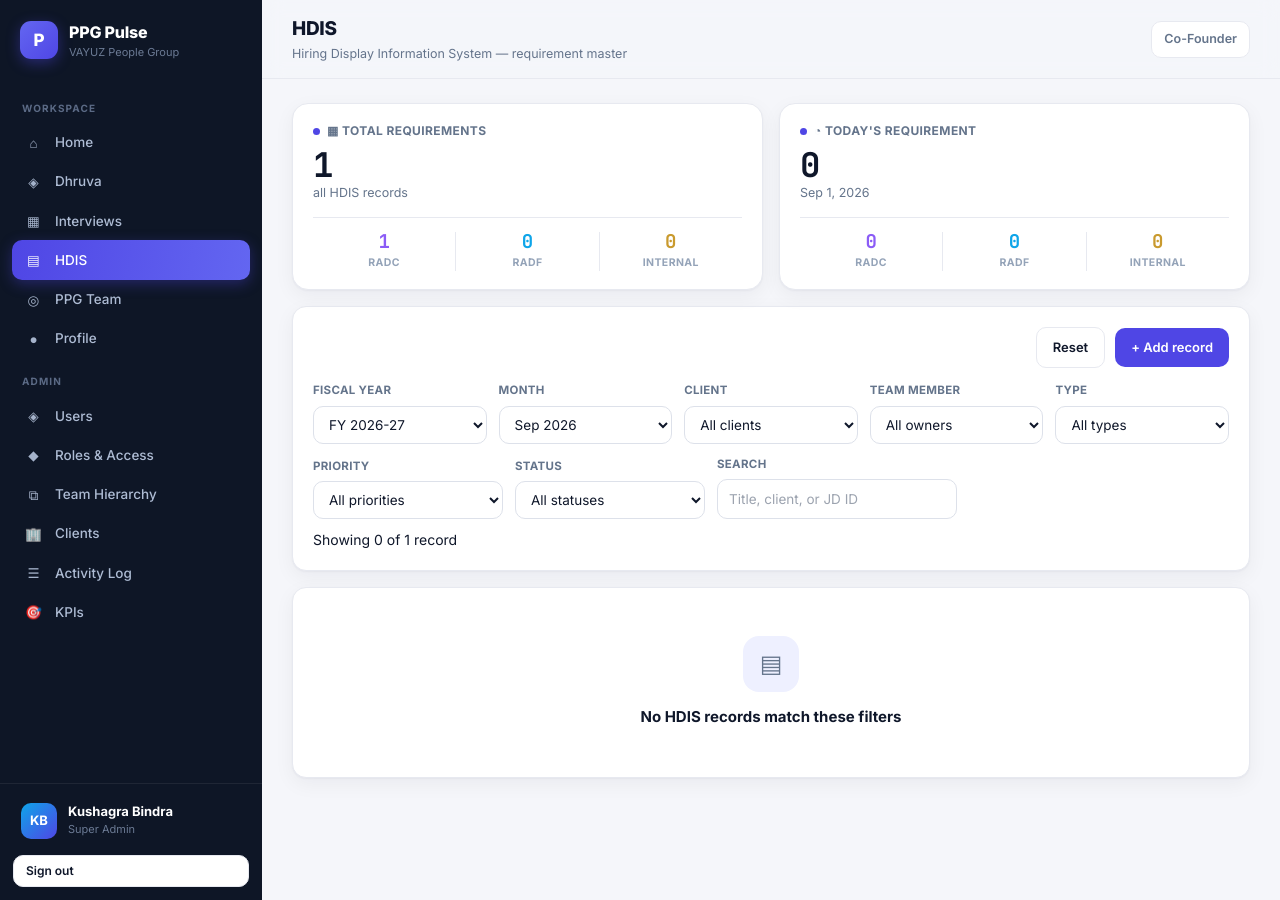
HDIS list (T10.1) › defaults the FY and month filters to the current fiscal year and month on a fresh visit
The image size is (1280, 900).
Expected: the heading "No HDIS records match these filters" is shown, [640, 707, 902, 726]
Expected: the dropdown labelled "Fiscal year" shows "FY 2026-27", [313, 406, 487, 444]
Click the button "Reset": {"x": 1070, "y": 348} [1036, 327, 1105, 368]
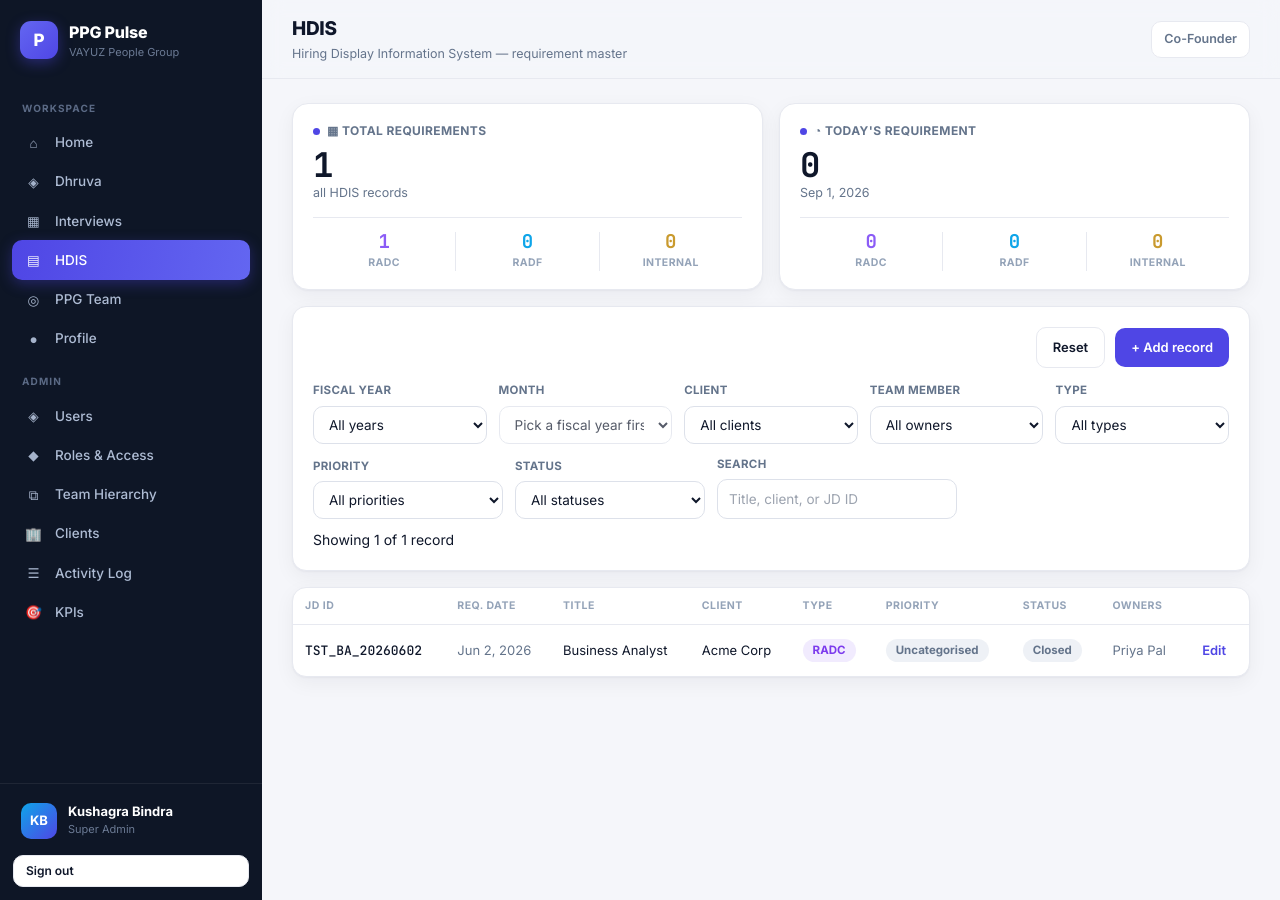
Now the text "Business Analyst" is shown, box [551, 624, 690, 676]
Now the dropdown labelled "Fiscal year" shows "All years", box [313, 406, 487, 444]
Now the dropdown labelled "Month" shows "Pick a fiscal year first", box [499, 406, 672, 444]
